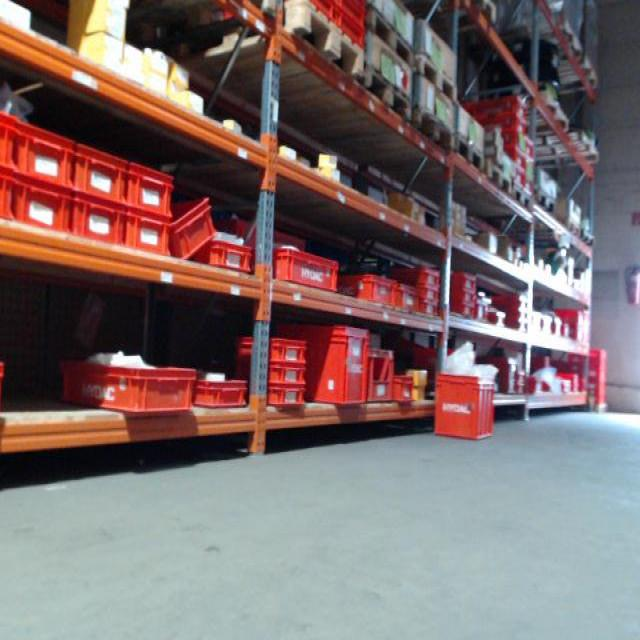pallet: (163, 1, 368, 113), (282, 62, 413, 130), (307, 105, 458, 162), (346, 4, 417, 67), (540, 122, 604, 166), (507, 215, 582, 252), (410, 51, 458, 104), (477, 154, 512, 199), (449, 136, 486, 178), (510, 187, 534, 218), (530, 192, 559, 215)
small_load_carrier: (270, 325, 374, 411), (60, 358, 194, 415), (429, 374, 498, 445), (168, 189, 221, 270), (254, 251, 340, 296), (19, 125, 76, 187), (74, 145, 129, 205), (22, 180, 72, 242), (66, 205, 126, 253), (124, 164, 175, 217), (231, 378, 310, 412), (339, 273, 400, 309), (123, 217, 171, 260), (235, 336, 306, 362), (370, 346, 400, 403), (195, 376, 246, 409), (202, 244, 253, 275), (1, 114, 26, 176), (286, 2, 339, 26), (230, 362, 306, 378), (395, 265, 441, 289), (1, 174, 20, 229), (395, 285, 414, 312), (450, 272, 477, 289), (449, 302, 474, 317), (398, 383, 414, 405), (417, 289, 442, 302), (416, 302, 437, 317), (449, 293, 478, 302)
